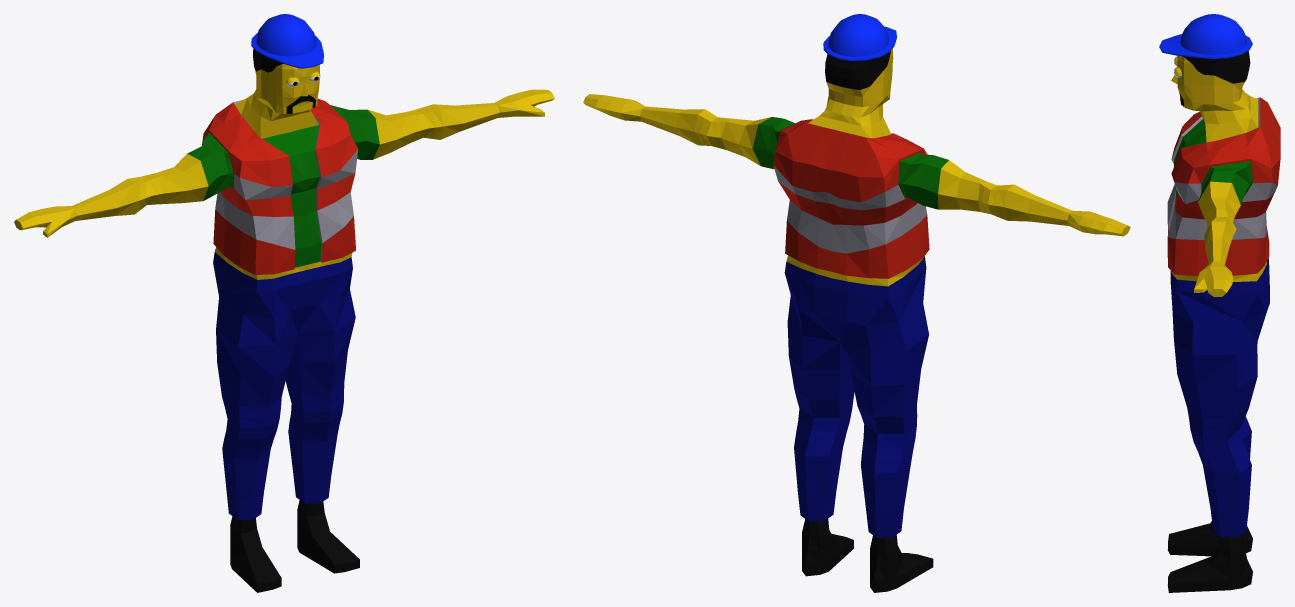
Rendered from Trolha.fbx.
3 renders of one model, left to right at view 1: azimuth 30°, elevation 25°; view 2: azimuth 150°, elevation 25°; view 3: azimuth 270°, elevation 25°, orthographic.
Parts seen in each view (by area): view 1: Trolha; view 2: Trolha; view 3: Trolha.
Part boxes in pixels (box(x1,y1,x2,y2)): Trolha: box(14, 14, 554, 592); Trolha: box(583, 14, 1130, 592); Trolha: box(1159, 14, 1280, 592).
Size of the model in its own units: 1.8 by 0.3522 by 1.77.
